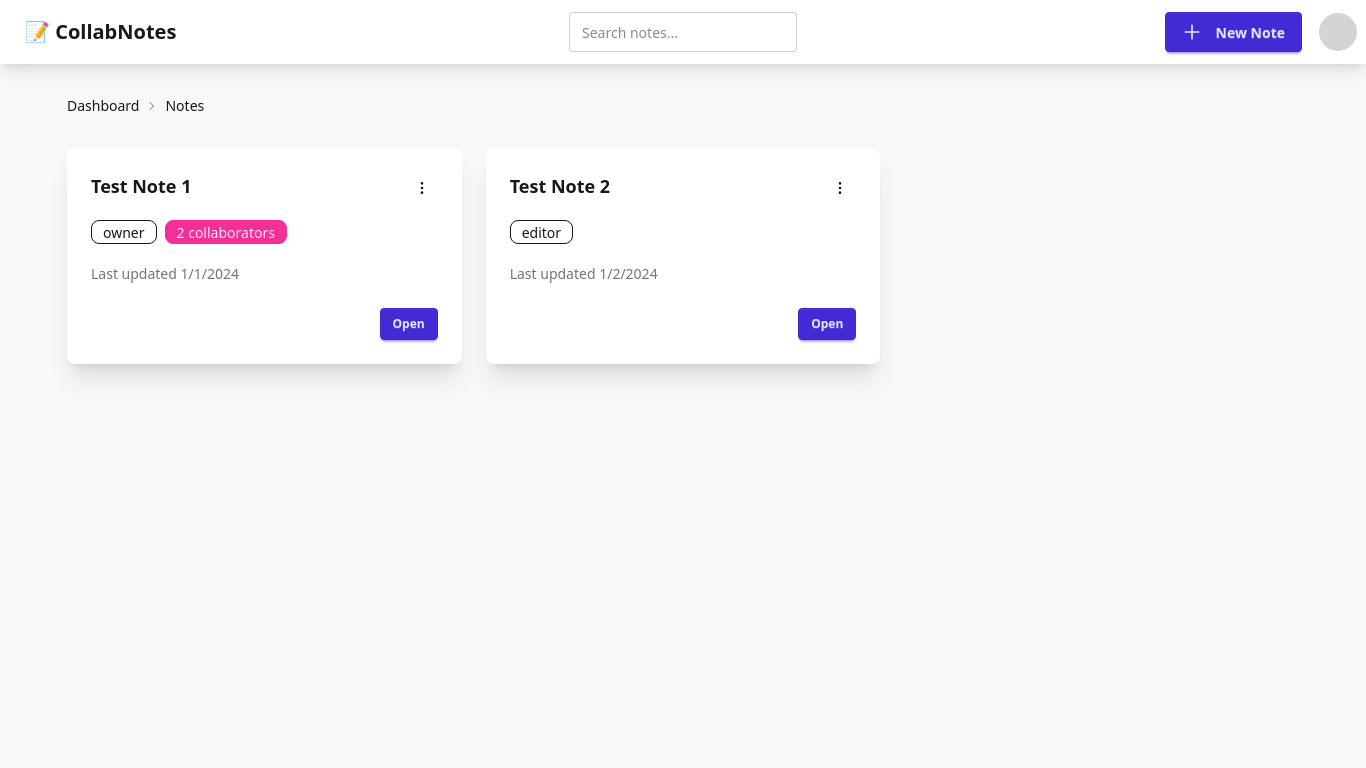
NotesView › Note Creation › shows create modal when new note button clicked
The image size is (1366, 768).
Click the button "New Note" at (1233, 32), box [1165,12,1302,52]
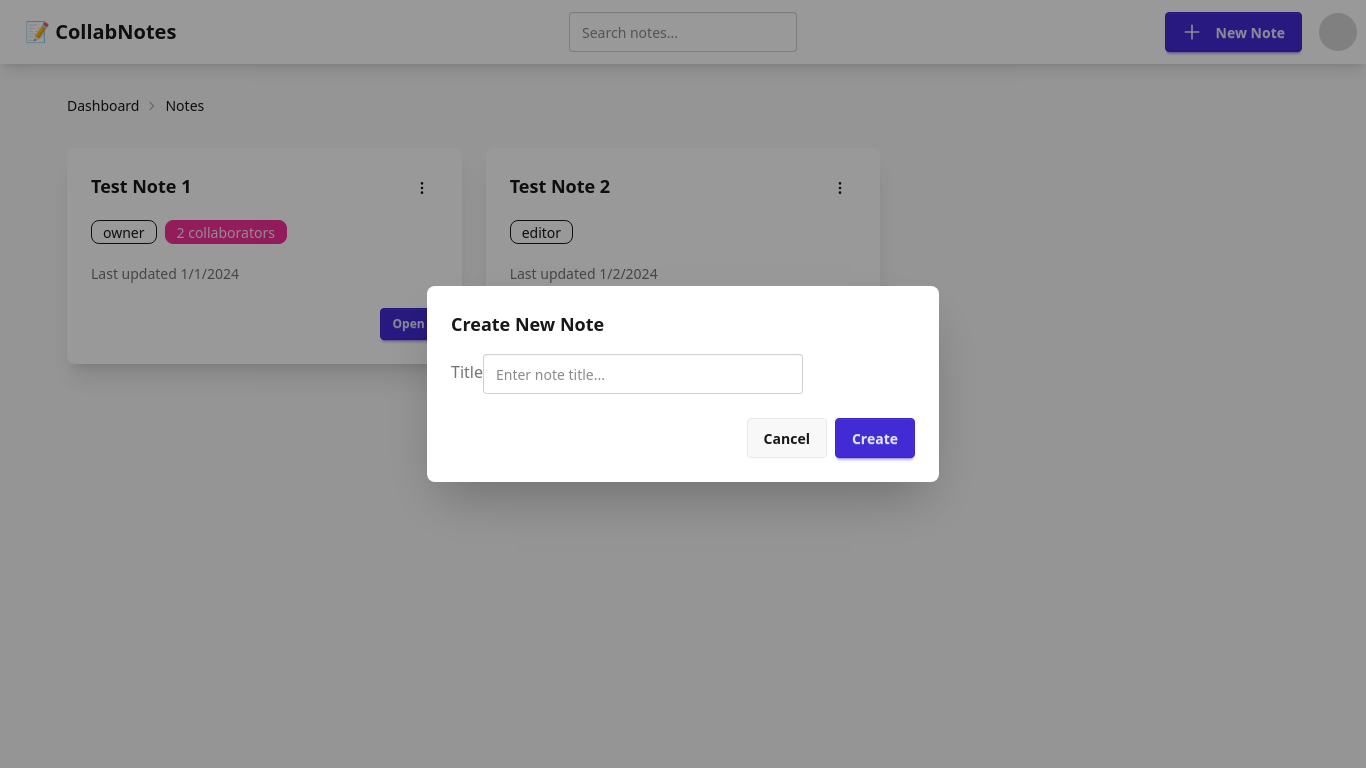
Now the element with class "modal-open" is shown
Now the text "Create New Note" is shown, box [451,312,604,336]
